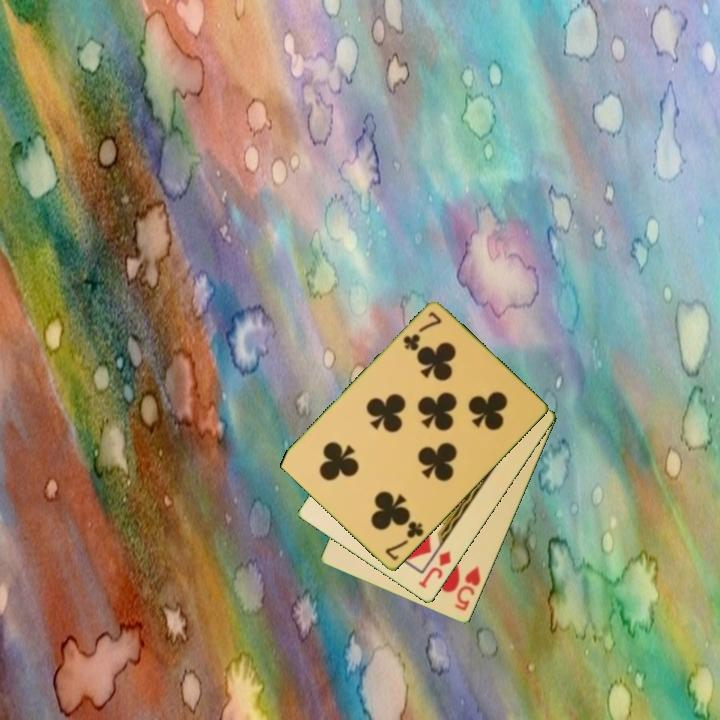5h: (451, 564, 483, 614)
7c: (381, 518, 427, 564), (399, 308, 444, 354)
Jd: (415, 548, 454, 592)
